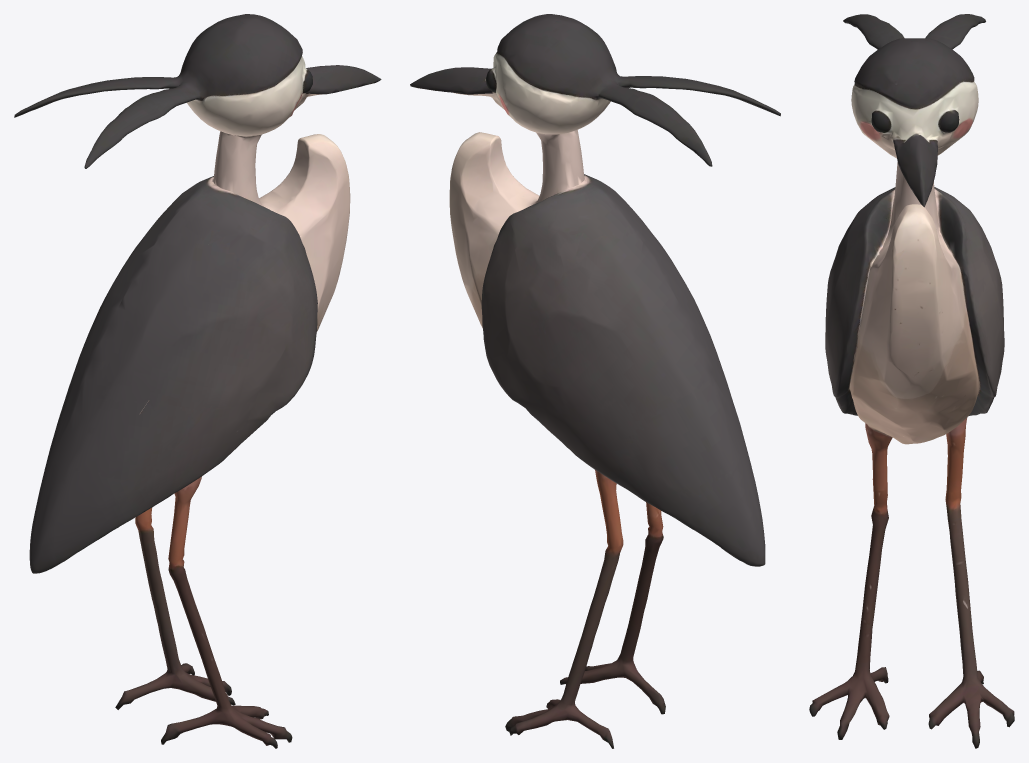
File: legs.glb
3 views of the same model, side by side, from view 1: azimuth 30°, elevation 25°; view 2: azimuth 150°, elevation 25°; view 3: azimuth 270°, elevation 25° (orthographic).
Parts seen in each view (by area): view 1: tripo_node_97793a14-2499-4a31-9805-9526cb965285; view 2: tripo_node_97793a14-2499-4a31-9805-9526cb965285; view 3: tripo_node_97793a14-2499-4a31-9805-9526cb965285.
Boxes of the visible parts, x1,y1,x2,y2 form: tripo_node_97793a14-2499-4a31-9805-9526cb965285: (14,14,381,748); tripo_node_97793a14-2499-4a31-9805-9526cb965285: (410,14,780,748); tripo_node_97793a14-2499-4a31-9805-9526cb965285: (809,14,1014,748).
Size of the model in its own units: 0.5294 by 1 by 0.2661.
1 material, 1 textured.
